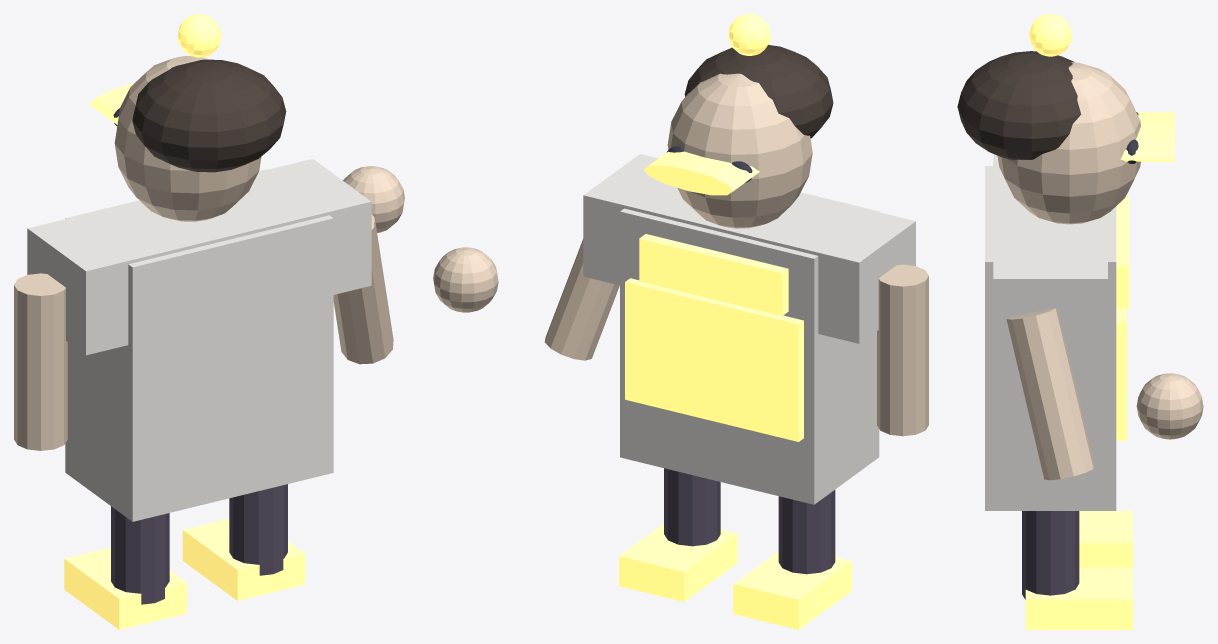
Rendered from fort_stylized_v1.glb.
3 renders of one model, left to right at view 1: azimuth 30°, elevation 25°; view 2: azimuth 150°, elevation 25°; view 3: azimuth 270°, elevation 25°, orthographic. The views are drawn at different scales.
Parts seen in each view (by area): view 1: Torso, Shoulders, Hair, ArmL, Head, FootR, FootL, LegL, ArmR, LegR, HandR, Star (+1 smaller); view 2: Torso, JacketFlare, Shoulders, Head, ArmL, Lapel, Hair, FootL, FootR, ArmR, LegL, LegR (+3 smaller); view 3: Torso, Shoulders, Head, Hair, ArmR, FootR, LegR, HandR, FootL, Glasses, Lapel, Star (+1 smaller).
Part boxes in pixels (box(x1,y1,x2,y2)): Torso: box(65, 169, 333, 521); Shoulders: box(27, 159, 371, 355); Hair: box(132, 59, 286, 172); ArmL: box(14, 273, 67, 450); Head: box(114, 56, 261, 221); FootR: box(182, 518, 305, 600); FootL: box(64, 547, 186, 629); LegL: box(111, 506, 169, 604); ArmR: box(333, 214, 393, 364); LegR: box(229, 484, 287, 575); HandR: box(343, 166, 404, 232); Star: box(177, 14, 221, 57); Torso: box(620, 192, 879, 504); JacketFlare: box(625, 278, 803, 441); Shoulders: box(583, 154, 915, 343); Head: box(667, 73, 812, 228); ArmL: box(877, 264, 928, 436); Lapel: box(639, 234, 788, 315); Hair: box(684, 45, 833, 138); FootL: box(733, 551, 851, 629); FootR: box(619, 523, 737, 601); ArmR: box(544, 239, 619, 360); LegL: box(778, 490, 835, 574); LegR: box(664, 468, 720, 546); Torso: box(985, 166, 1116, 510); Shoulders: box(993, 154, 1107, 361); Head: box(997, 62, 1140, 224); Hair: box(957, 51, 1081, 160); ArmR: box(1006, 307, 1094, 480); FootR: box(1025, 567, 1132, 629); LegR: box(1022, 511, 1079, 599); HandR: box(1136, 373, 1203, 439); FootL: box(1079, 510, 1132, 567); Glasses: box(1120, 112, 1174, 161); Lapel: box(1116, 195, 1129, 308); Star: box(1029, 14, 1071, 56).
Bounding box in the file's own units: 2.1 × 2.63 × 1.03.
